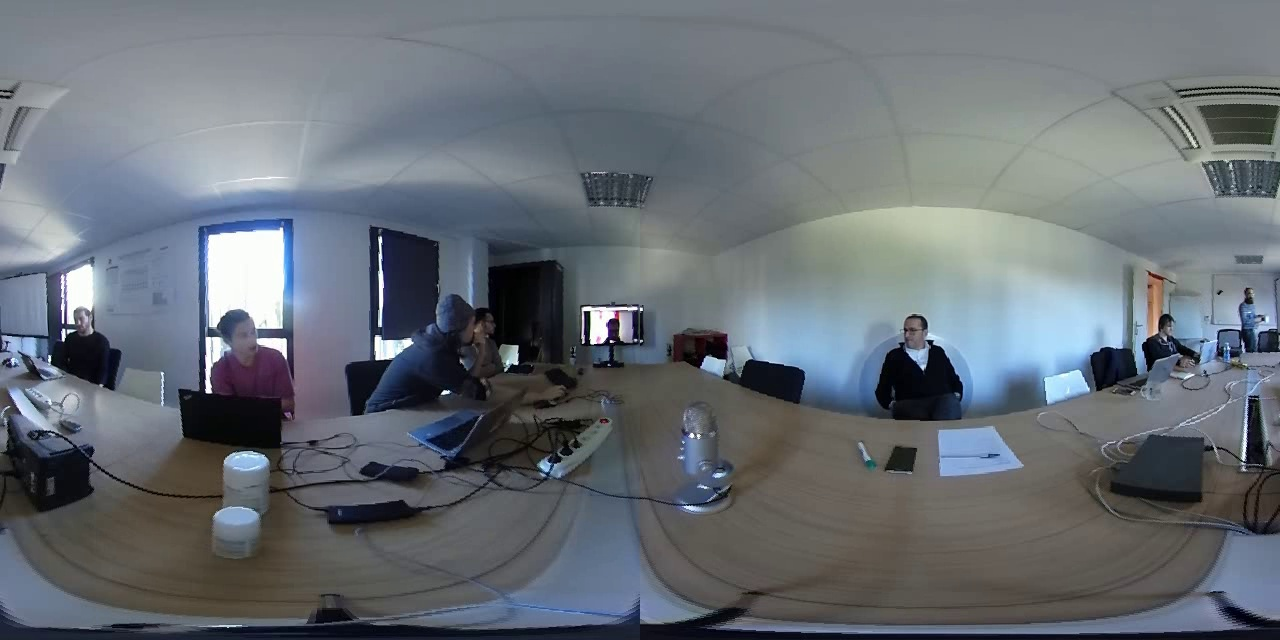person: (185, 306, 301, 401), (382, 289, 475, 401), (876, 312, 967, 415), (45, 303, 125, 379), (1145, 295, 1185, 368), (1234, 283, 1269, 351), (475, 301, 505, 371), (590, 310, 632, 347)
